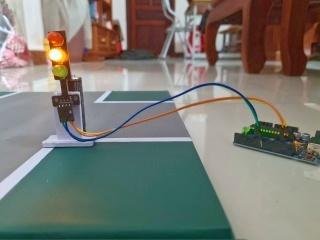yellow: (34, 21, 86, 91)
